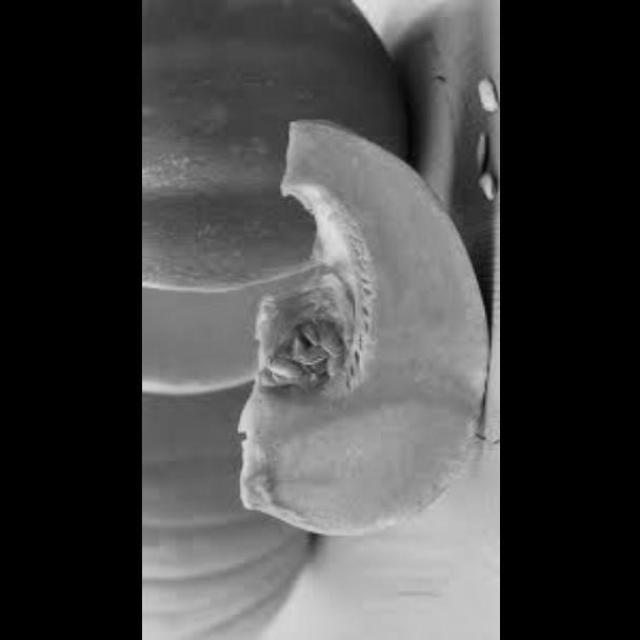pumpkin: (230, 115, 486, 567), (139, 0, 408, 392), (140, 382, 317, 639)
